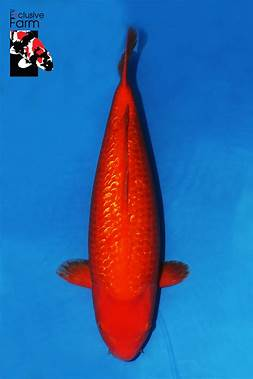red: (56, 28, 191, 362)
